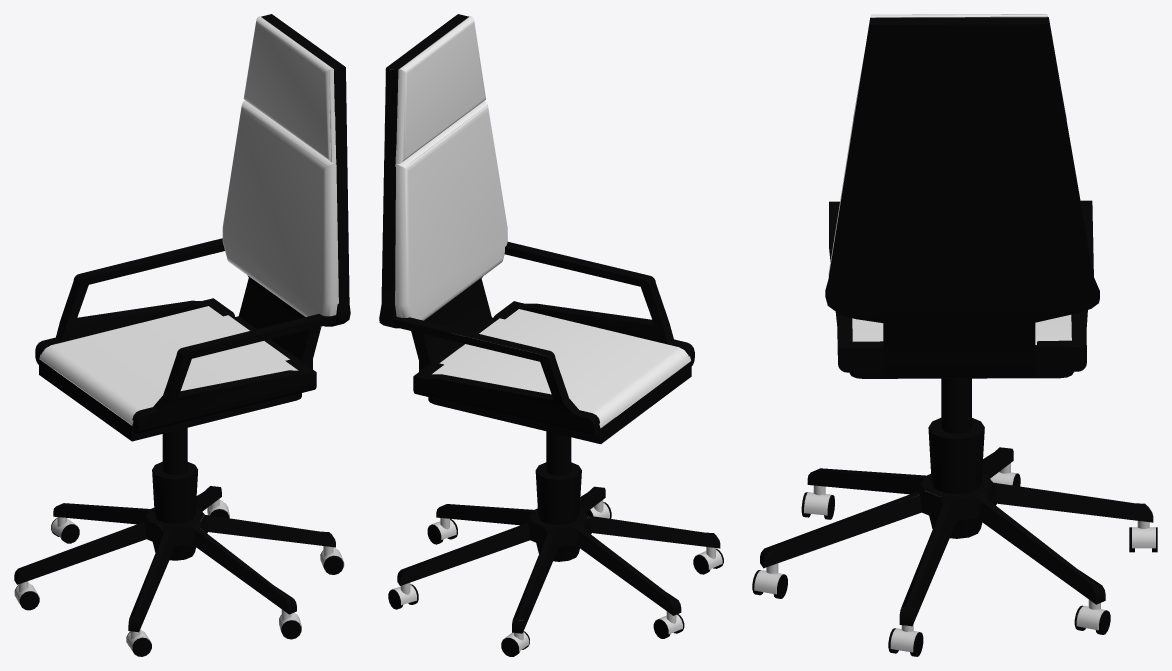
Rendered from Chair.fbx.
3 views of the same model, side by side, from view 1: azimuth 30°, elevation 25°; view 2: azimuth 150°, elevation 25°; view 3: azimuth 270°, elevation 25° (orthographic). The views are drawn at different scales.
Parts seen in each view (by area): view 1: Cylinder.020; view 2: Cylinder.020; view 3: Cylinder.020.
Boxes of the visible parts, x1,y1,x2,y2 form: Cylinder.020: (14, 14, 350, 656); Cylinder.020: (379, 14, 723, 656); Cylinder.020: (752, 14, 1157, 656).
Bounding box in the file's own units: 1.88 × 3.22 × 1.88.
